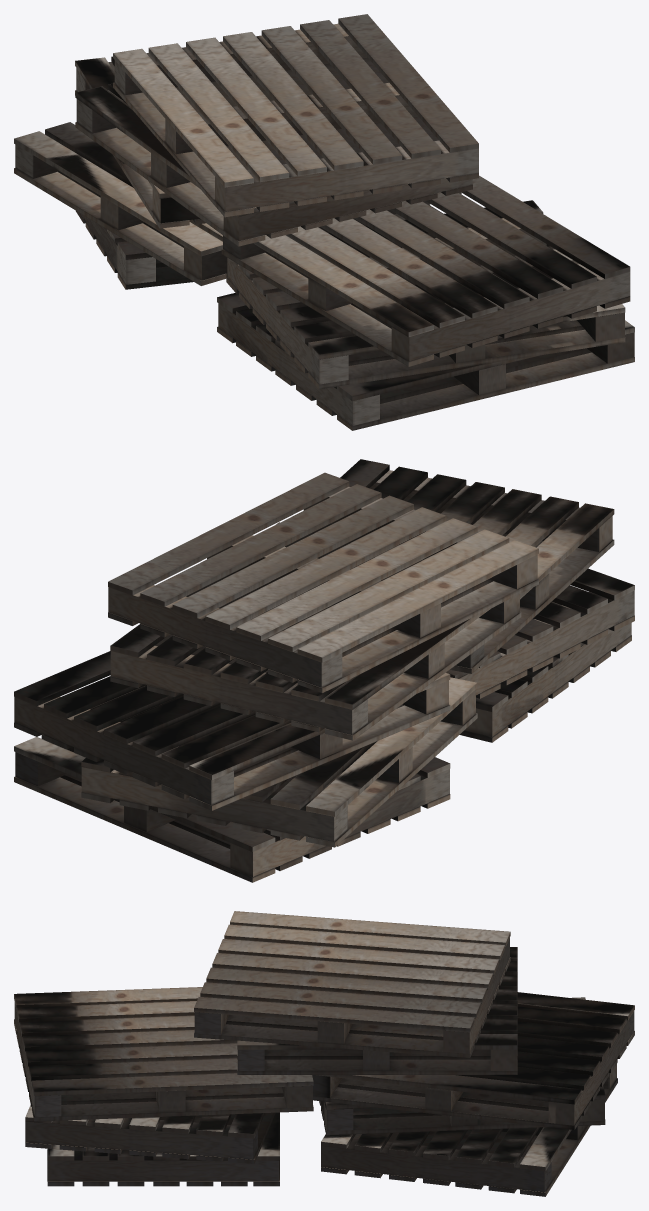
File: Hangar_WoodenCart.FBX
The picture shows the model from 3 angles, top to bottom: view 1: azimuth 30°, elevation 25°; view 2: azimuth 150°, elevation 25°; view 3: azimuth 270°, elevation 25°; orthographic projection. The views are drawn at different scales.
Parts seen in each view (by area): view 1: Hangar_WoodenCart; view 2: Hangar_WoodenCart; view 3: Hangar_WoodenCart.
Boxes of the visible parts, x1,y1,x2,y2 form: Hangar_WoodenCart: (14,14,634,430); Hangar_WoodenCart: (14,459,634,882); Hangar_WoodenCart: (14,911,634,1196).
Bounding box in the file's own units: 277 × 138 × 521.
